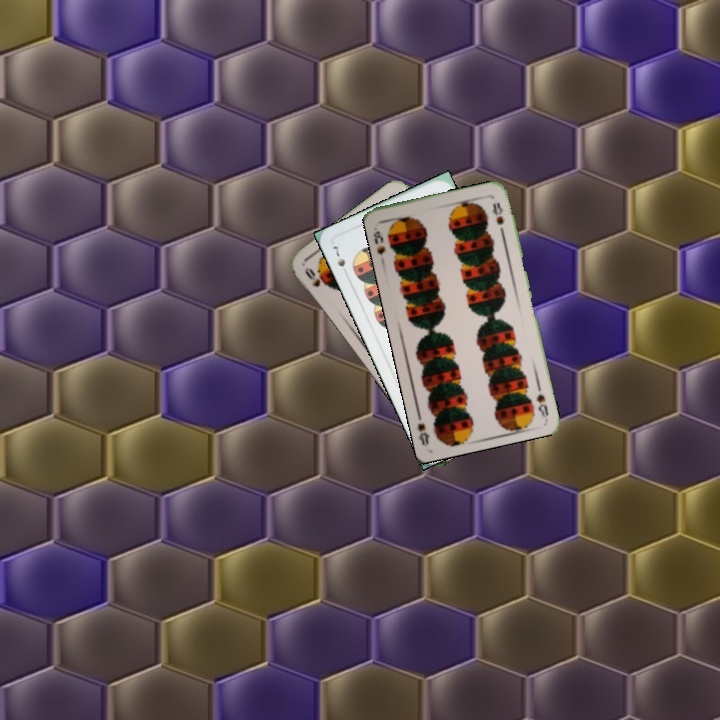S7: (328, 242, 351, 279)
S8: (532, 379, 551, 419), (369, 223, 388, 258)
SO: (301, 263, 329, 289)
